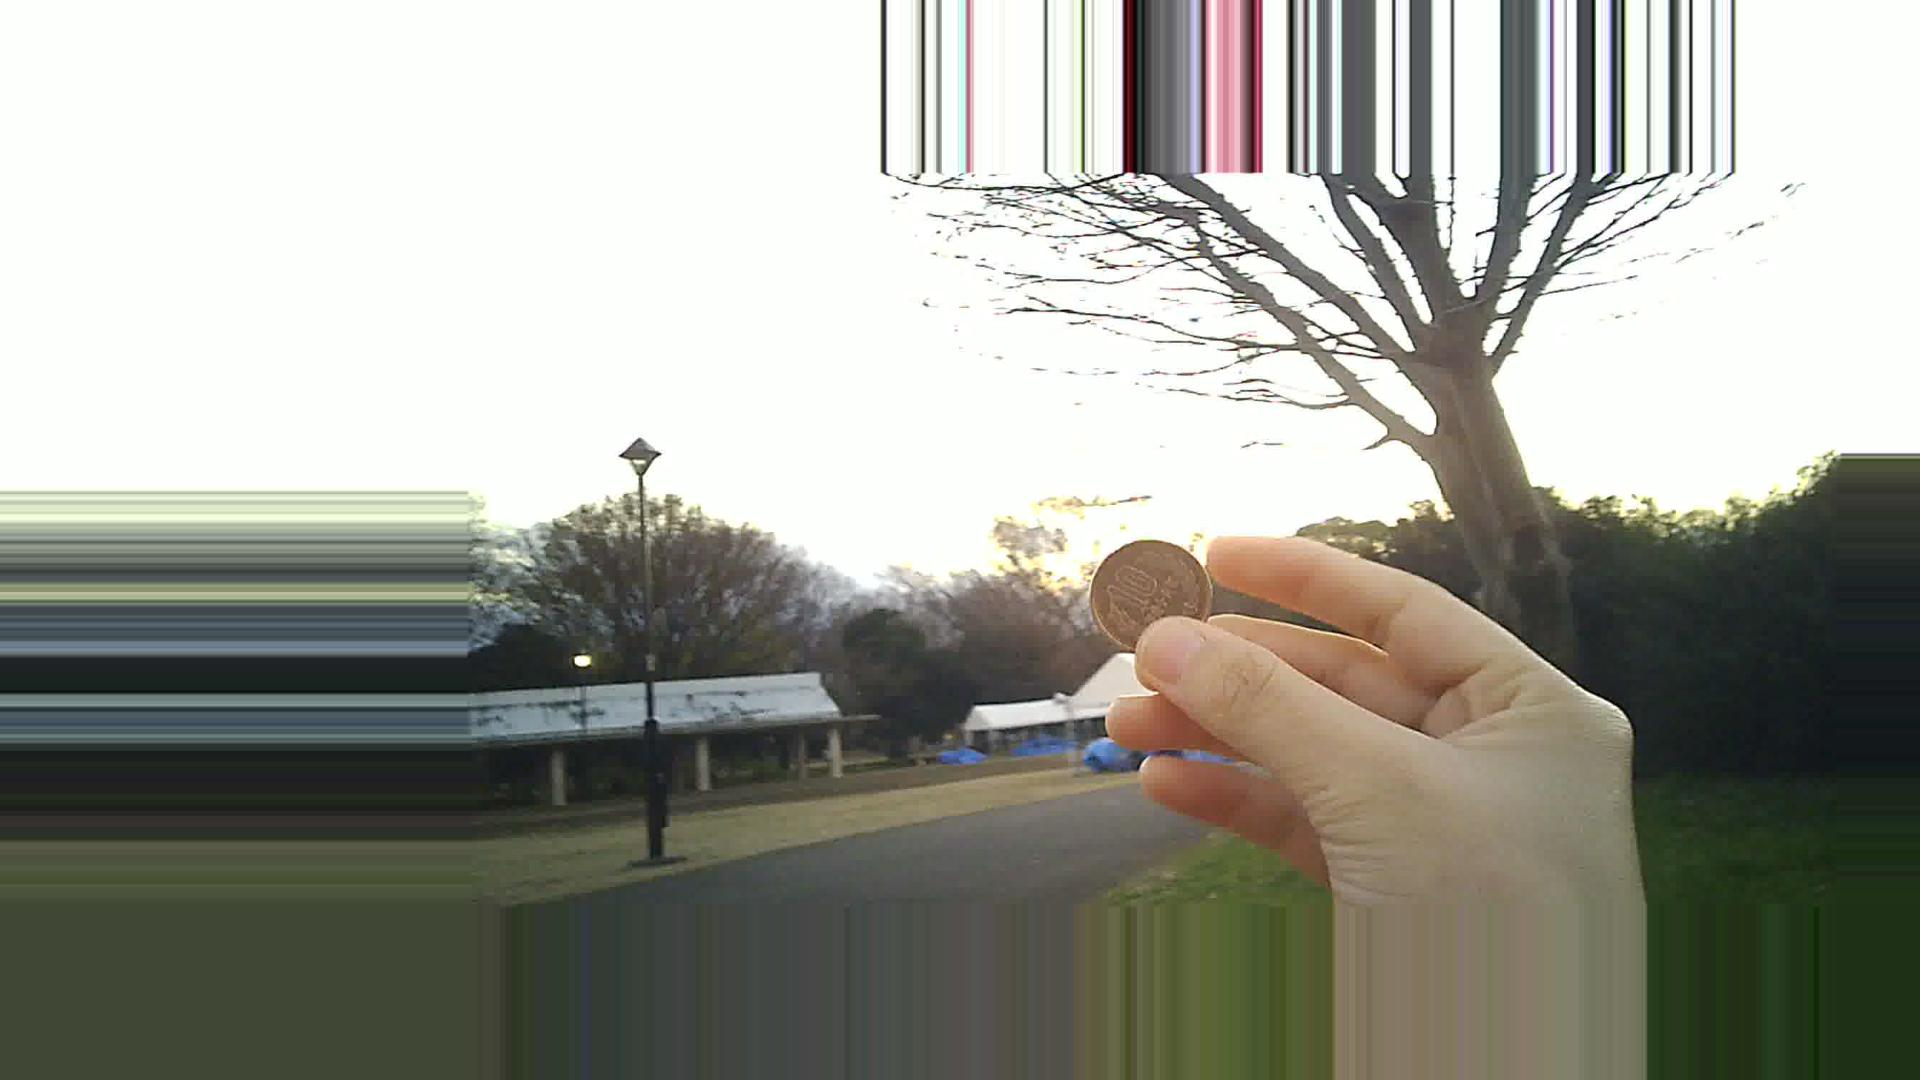10 Yen: (1083, 535, 1224, 646)
